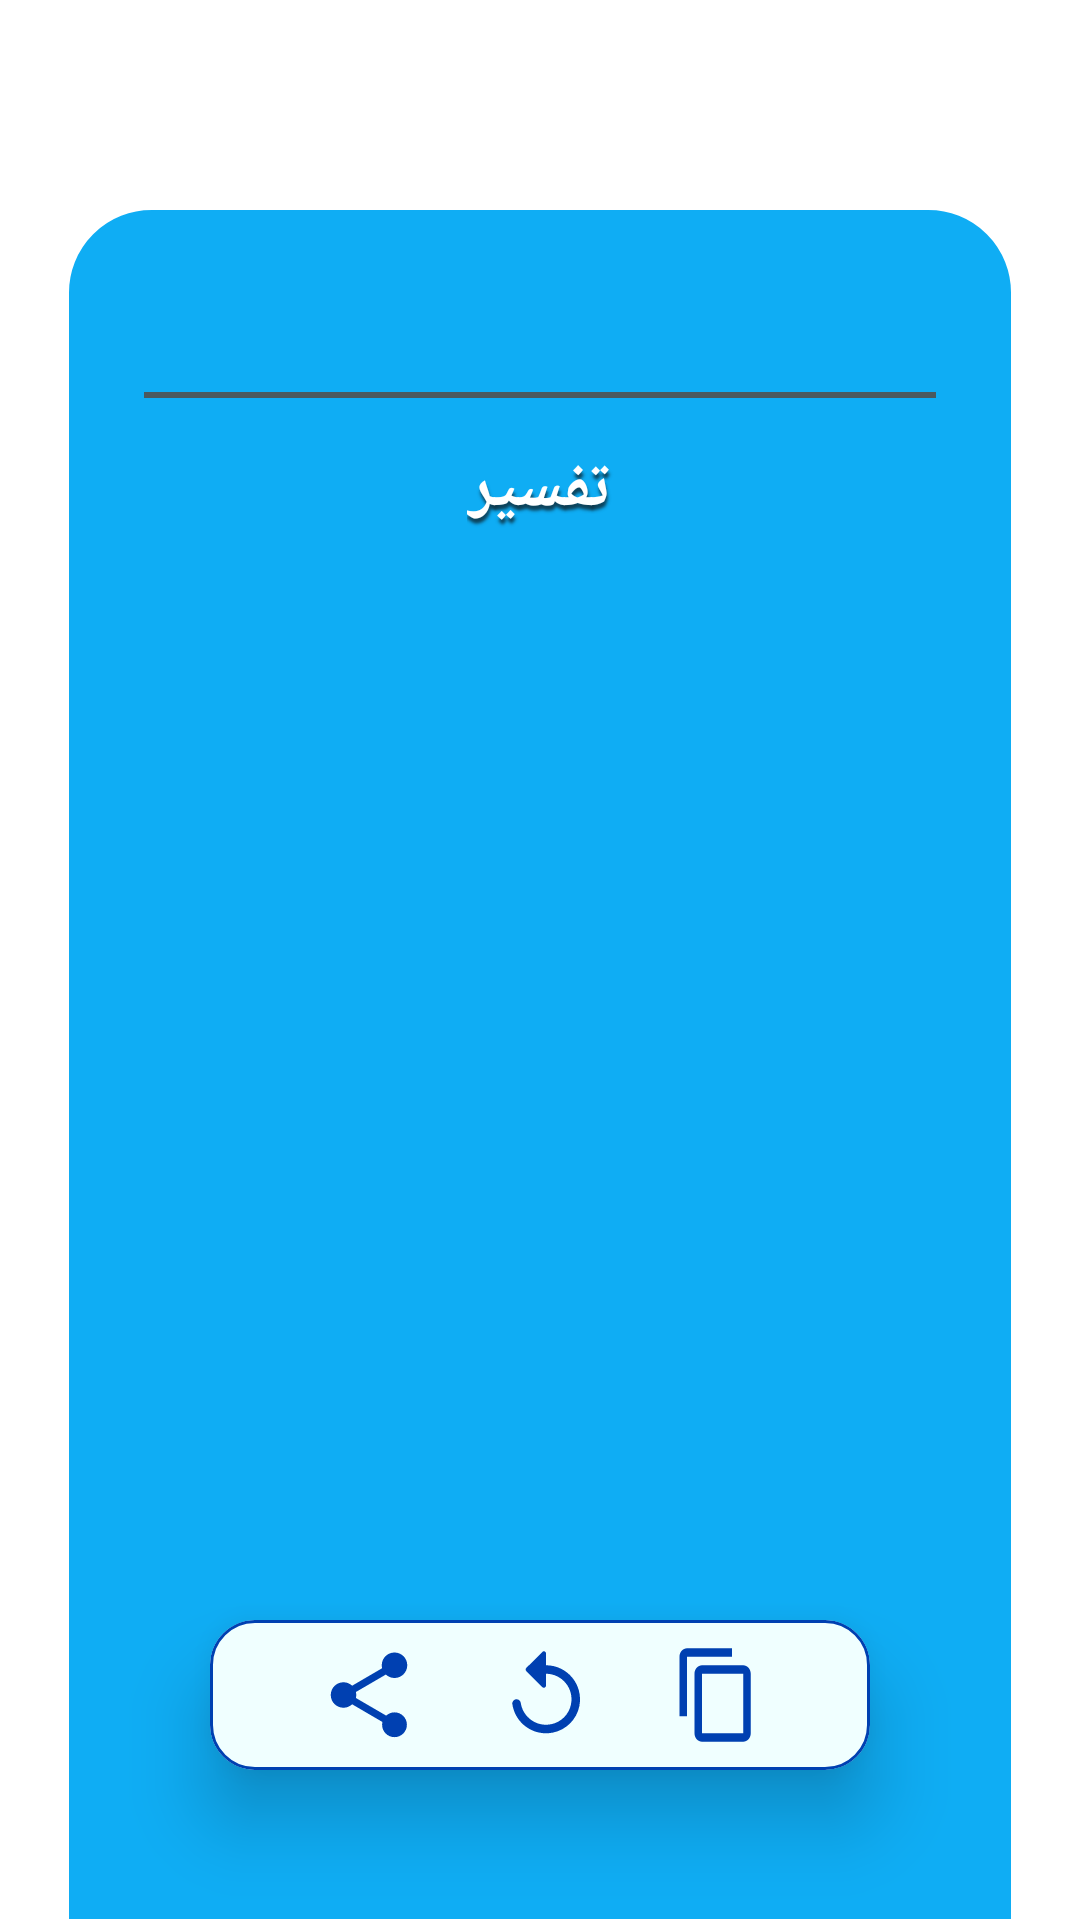

Point at icon controls on the screen. Image size 1080 × 1920, points as [x,y].
replay: [546,1692]
share: [369,1695]
